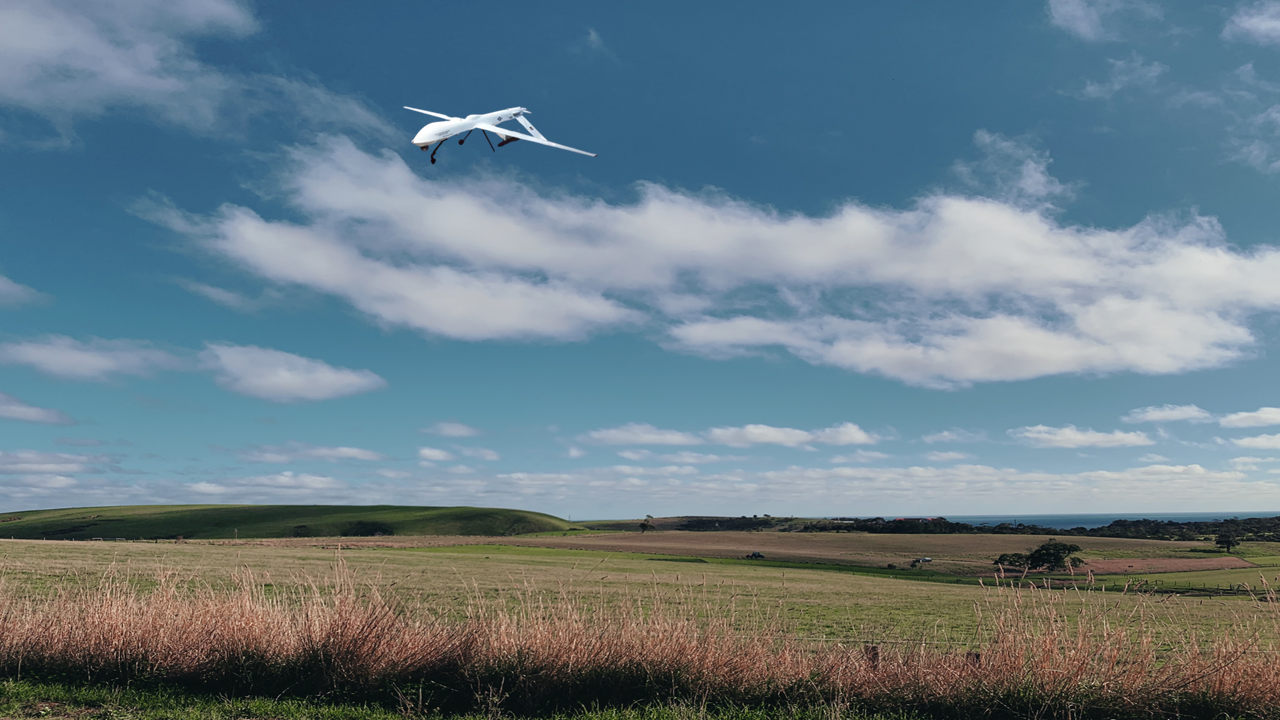military drone: (403, 105, 597, 164)
